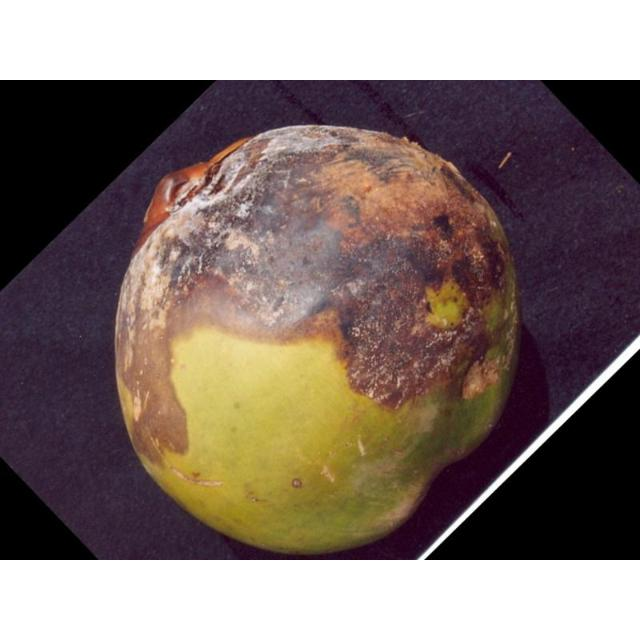damaged: (115, 126, 519, 554)
